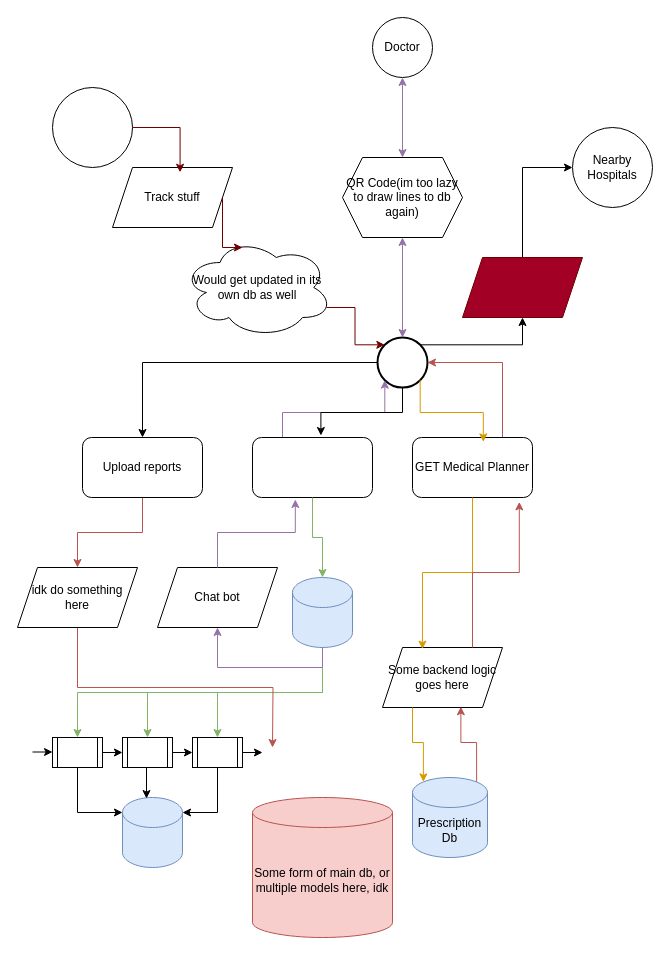
The diagram is 670 pixels wide and 955 high, and some of its shapes have lost their labels. The centre of each missing label's shape, as x and y in pixels:
"!! Alert" belongs at [522,287].
"Analyse reports" belongs at [312,467].
"Block db" belongs at [322,612].
"Report DB" belongs at [152,832].
"User" belongs at [402,362].
"Wearable device" belongs at [92,127].
